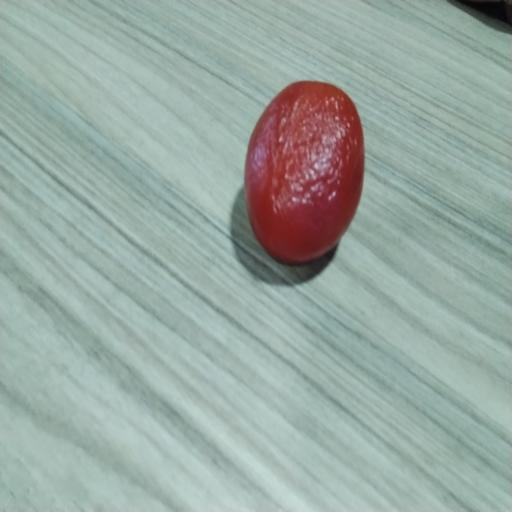spoiled: (245, 81, 364, 263)
